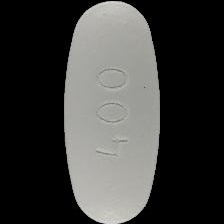60505-0041: (0, 0, 224, 224)
